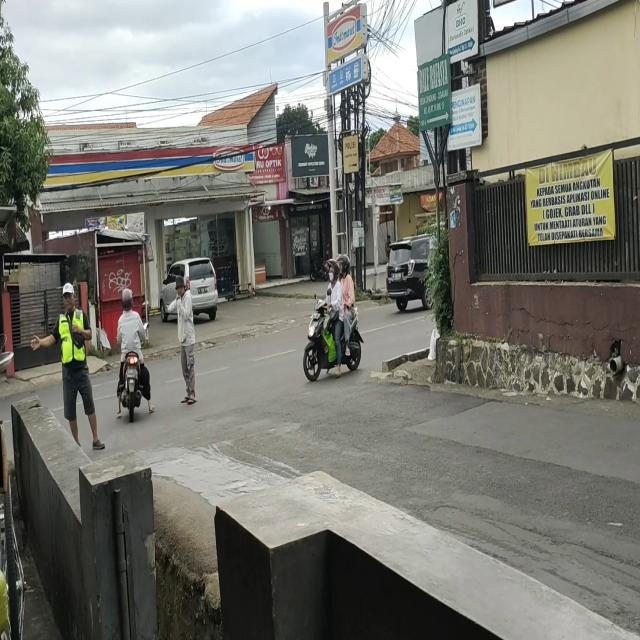helmet: (336, 253, 352, 279), (325, 262, 338, 284), (123, 292, 133, 312)
